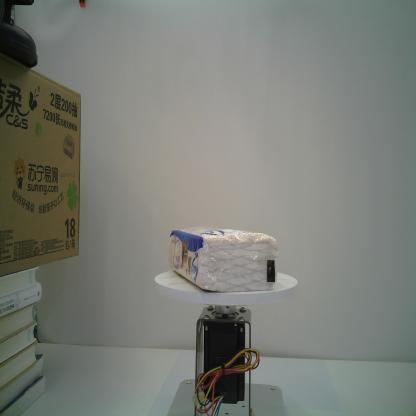Tissue: (167, 226, 278, 294)
